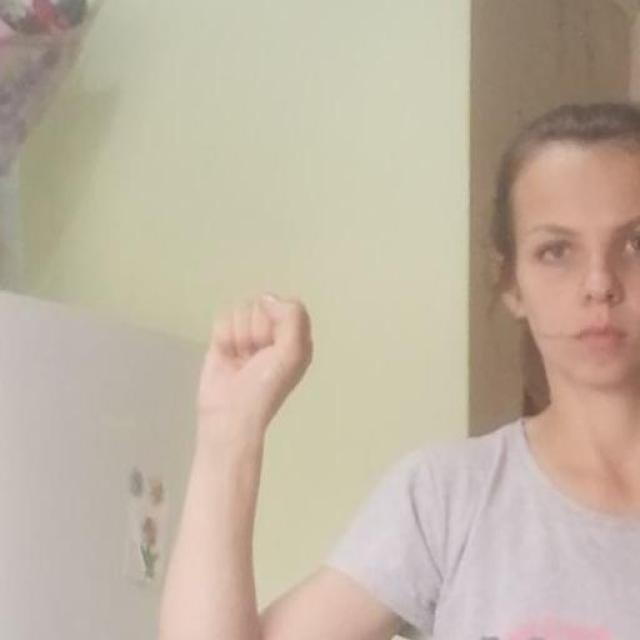hand: (194, 290, 314, 444)
